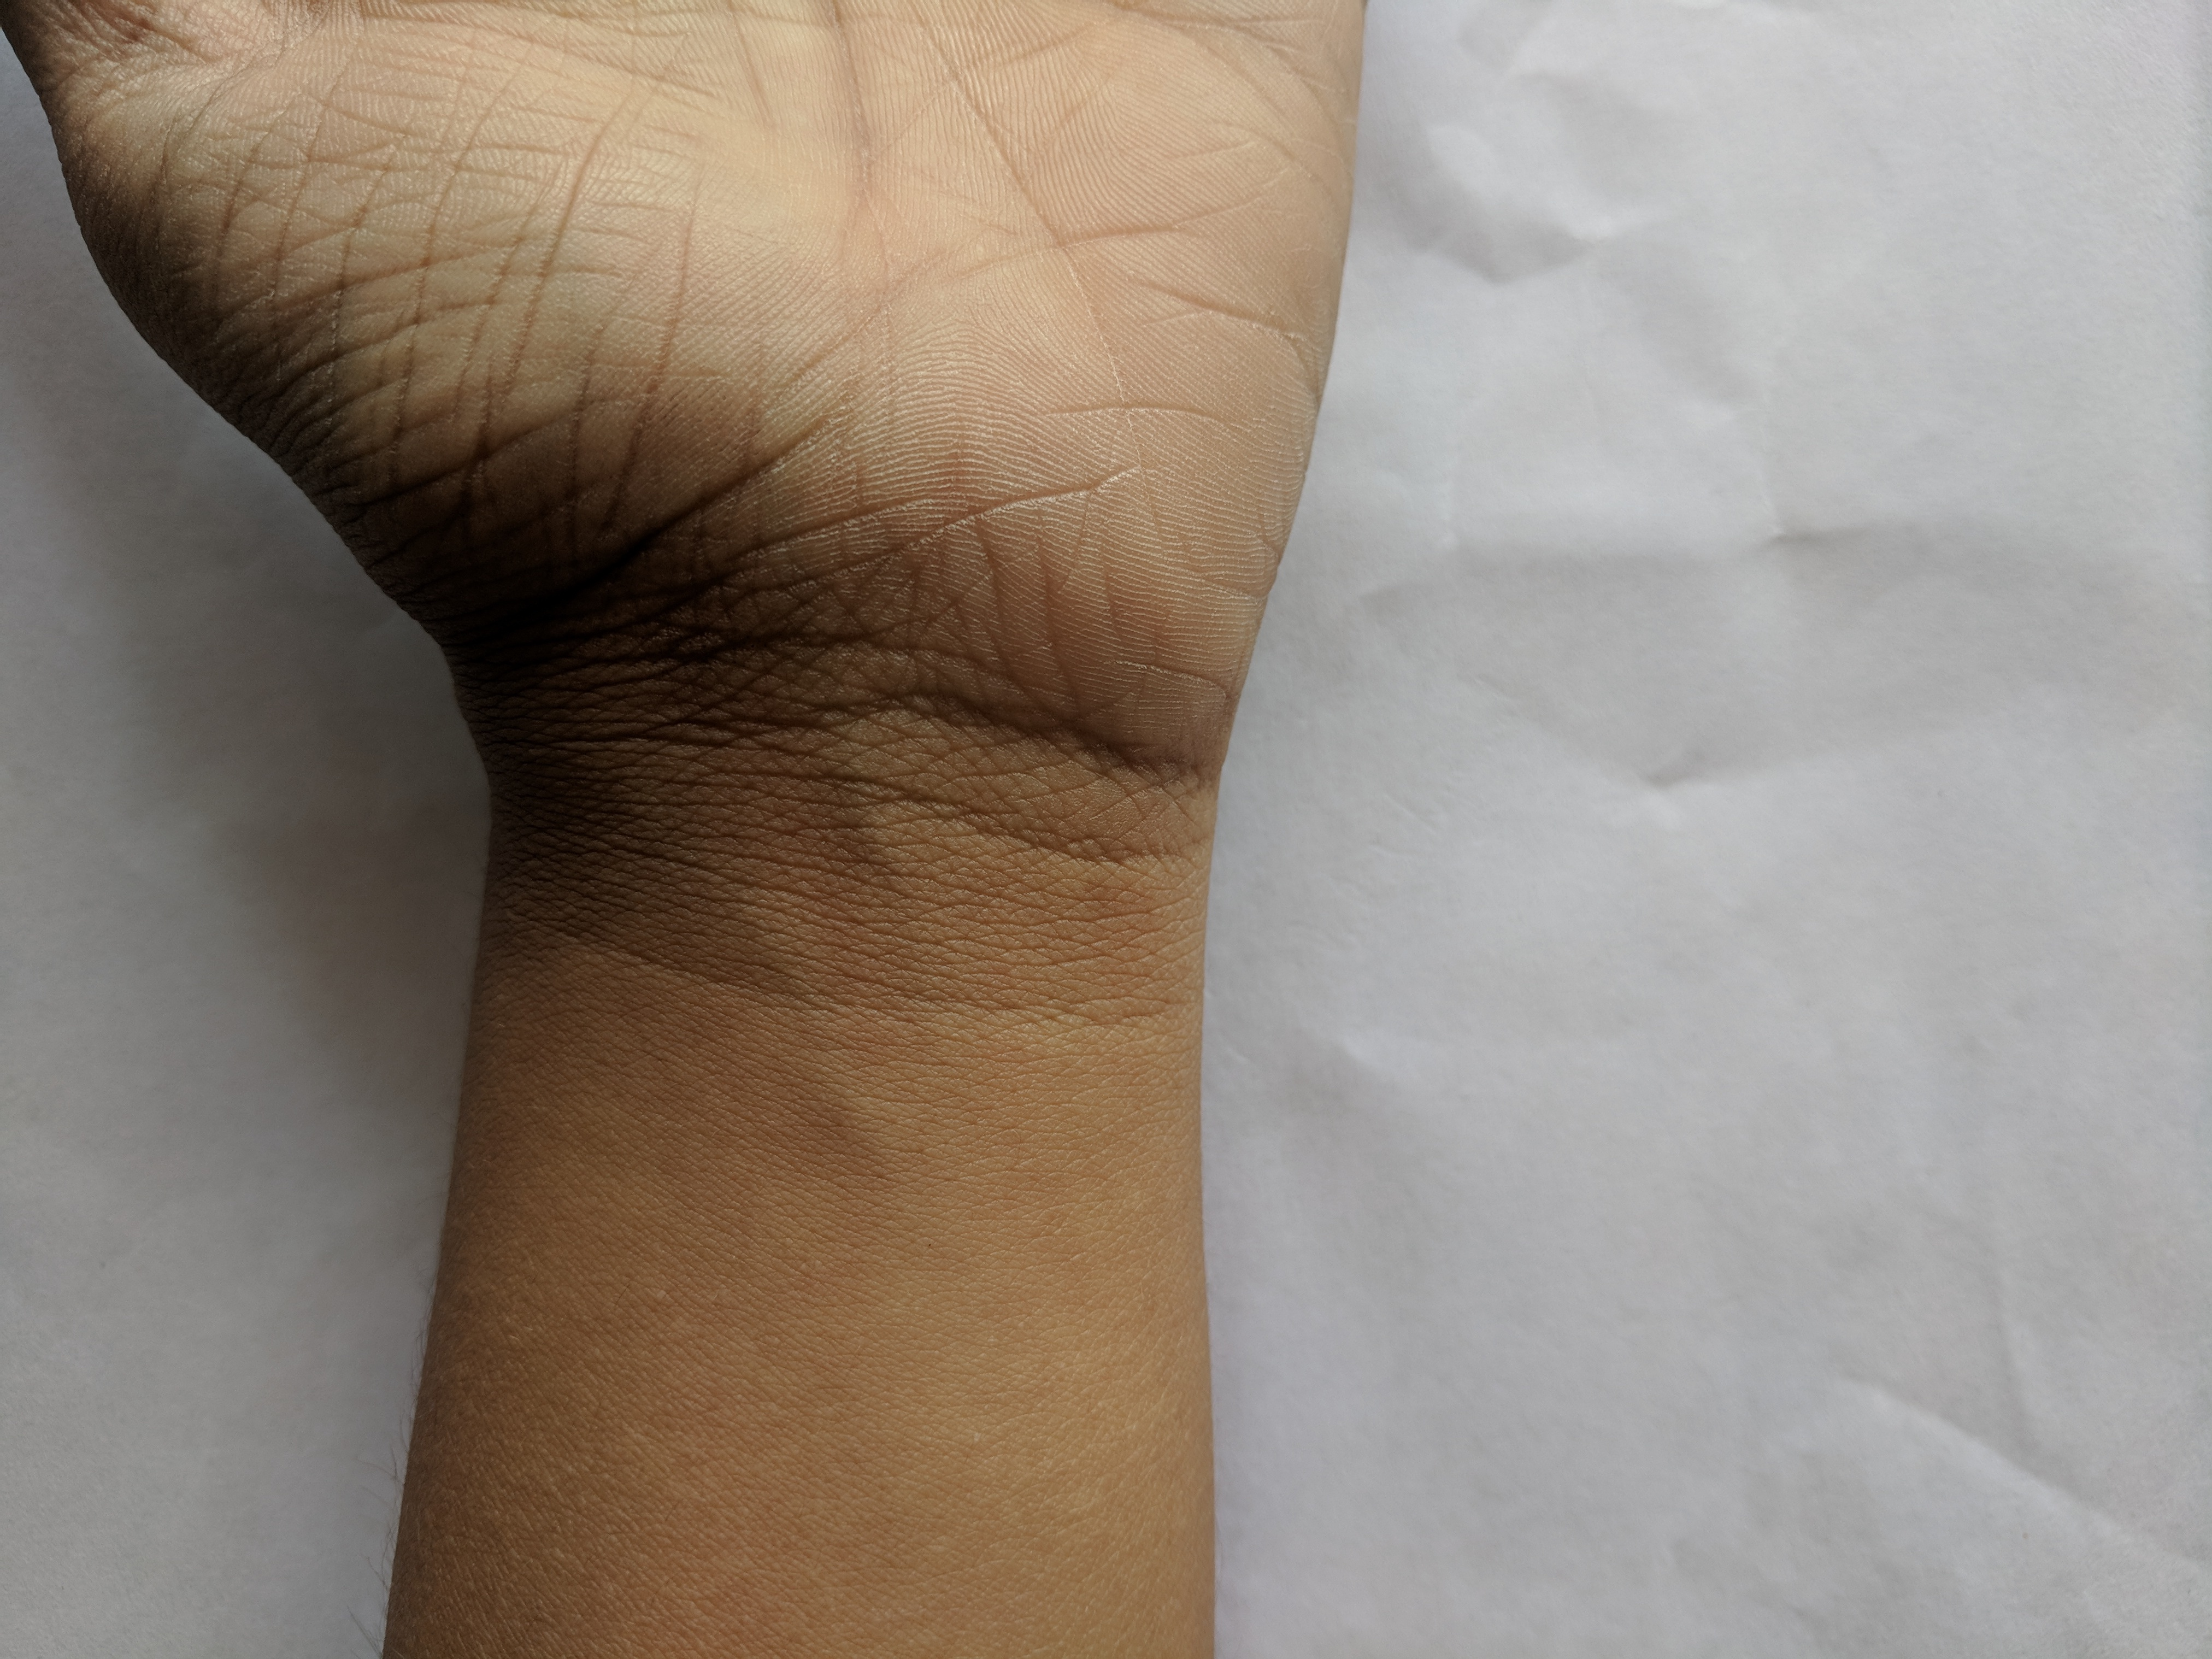lefthandwrist: (368, 561, 1284, 1039)
